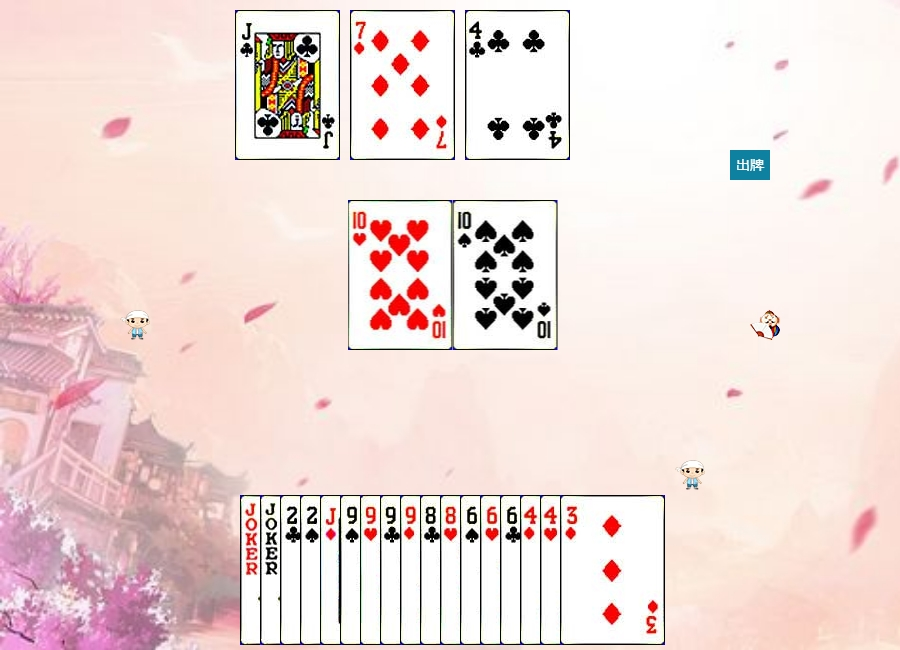10~3: (348, 200, 453, 350)
10~4: (453, 200, 558, 350)
11~1: (320, 495, 425, 645)
11~2: (235, 10, 340, 160)
15~2: (280, 495, 385, 645)
15~4: (300, 495, 405, 645)
17~3: (260, 495, 365, 645)
18~4: (240, 495, 345, 645)
3~1: (560, 495, 665, 645)
4~1: (520, 495, 625, 645)
4~2: (465, 10, 570, 160)
4~3: (540, 495, 645, 645)
6~2: (500, 495, 605, 645)
6~3: (480, 495, 585, 645)
6~4: (460, 495, 565, 645)
7~1: (350, 10, 455, 160)
8~2: (420, 495, 525, 645)
8~3: (440, 495, 545, 645)
9~1: (400, 495, 505, 645)
9~2: (380, 495, 485, 645)
9~3: (360, 495, 465, 645)
9~4: (340, 495, 445, 645)
